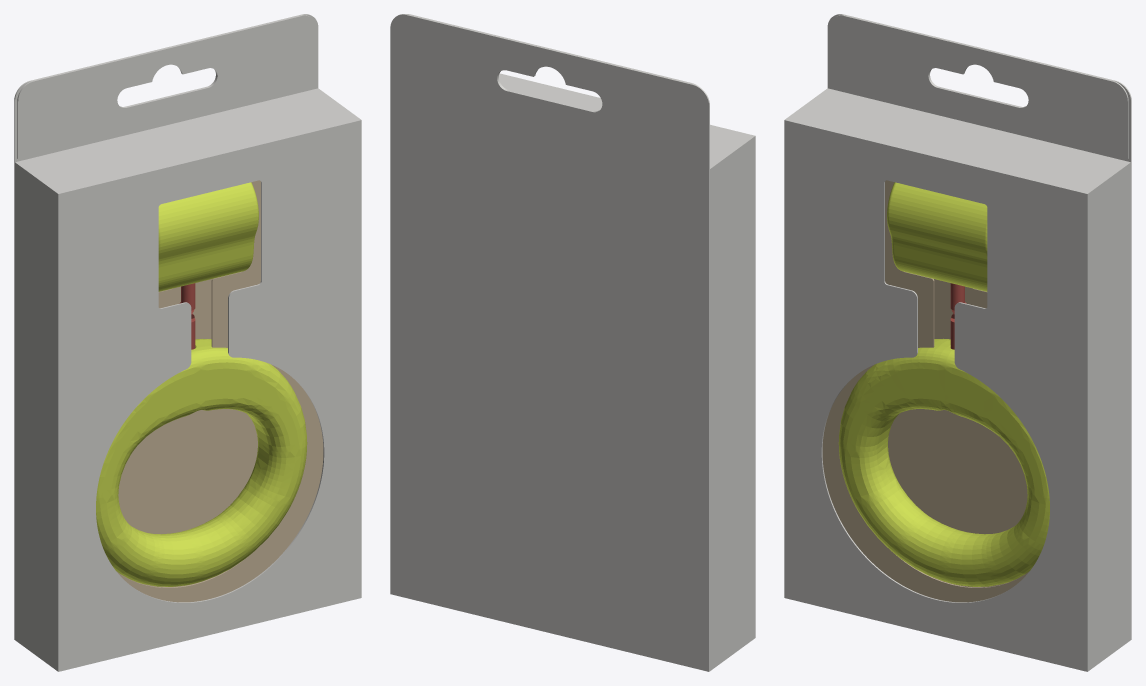
The model's file is Tuerzwerg_Verpackung.glb.
3 renders of one model, left to right at view 1: azimuth 30°, elevation 25°; view 2: azimuth 150°, elevation 25°; view 3: azimuth 330°, elevation 25°, orthographic. The views are drawn at different scales.
Visible parts, largest first — view 1: Umverpackung, Ring, Einleger, Aufhaenger, Deckel, Manschette; view 2: Umverpackung, Aufhaenger, Deckel; view 3: Umverpackung, Ring, Einleger, Aufhaenger, Deckel, Manschette.
Part boxes in pixels (<box>): Umverpackung: <box>14,88,361,671</box>; Ring: <box>96,338,307,586</box>; Einleger: <box>116,180,323,602</box>; Aufhaenger: <box>14,14,318,162</box>; Deckel: <box>17,88,360,194</box>; Manschette: <box>158,182,258,291</box>; Umverpackung: <box>390,73,755,671</box>; Aufhaenger: <box>390,14,709,169</box>; Deckel: <box>499,74,752,167</box>; Umverpackung: <box>784,88,1131,671</box>; Ring: <box>838,338,1049,586</box>; Einleger: <box>822,180,1029,602</box>; Aufhaenger: <box>827,14,1131,162</box>; Deckel: <box>786,88,1128,192</box>; Manschette: <box>887,182,987,291</box>.
Bounding box in the file's own units: 0.097 × 0.1696 × 0.0245.
